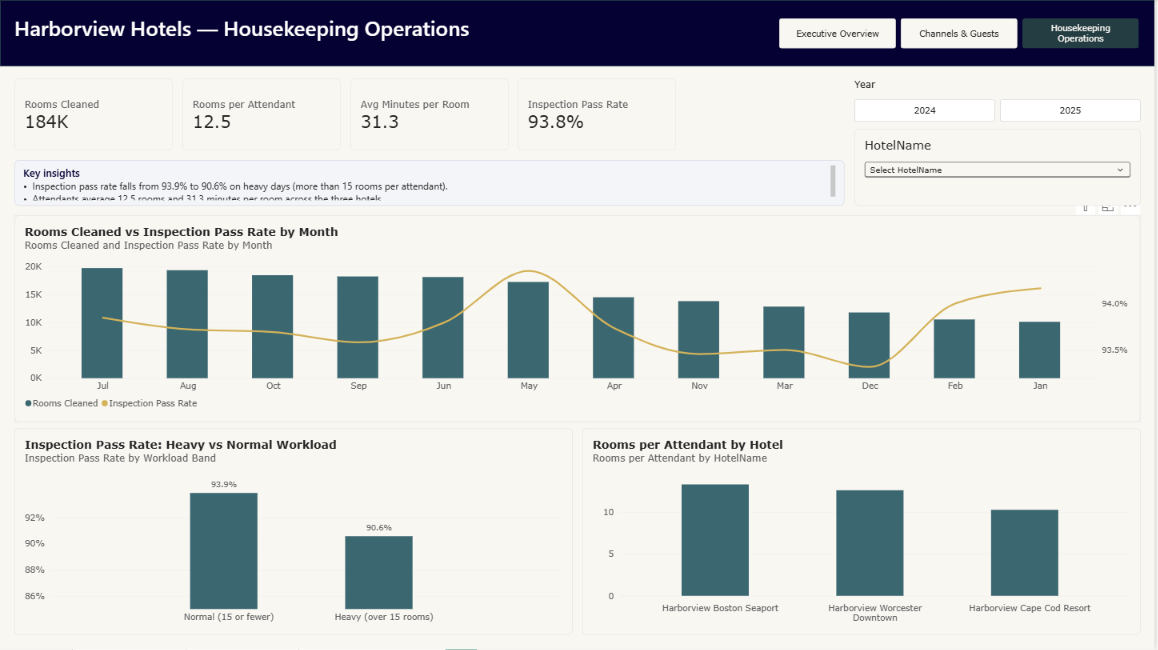

The dashboard page shown, as its layout file describes it:
{"tool":"powerbi","page":{"name":"Housekeeping Operations","canvas":[1920,1080],"ordinal":2},"visuals":[{"type":"cardVisual","fields":{"Data":["_Measure.Rooms Cleaned"]},"box":[24,130,263,120],"z":0},{"type":"cardVisual","fields":{"Data":["_Measure.Inspection Pass Rate"]},"box":[861,130,263,120],"z":1000},{"type":"cardVisual","fields":{"Data":["_Measure.Avg Minutes per Room"]},"box":[582,130,263,120],"z":2000},{"type":"cardVisual","fields":{"Data":["_Measure.Rooms per Attendant"]},"box":[303,130,263,120],"z":3000},{"type":"lineStackedColumnComboChart","title":"Rooms Cleaned vs Inspection Pass Rate by Month","fields":{"Category":["Date.Month"],"Y":["_Measure.Rooms Cleaned"],"Y2":["_Measure.Inspection Pass Rate"]},"box":[24,358,1872,344],"z":4000},{"type":"clusteredColumnChart","title":"Inspection Pass Rate: Heavy vs Normal Workload","fields":{"Category":["Housekeeping.Workload Band"],"Y":["_Measure.Inspection Pass Rate"]},"box":[24,712,928,344],"z":5000},{"type":"clusteredColumnChart","title":"Rooms per Attendant by Hotel","fields":{"Category":["Hotels.HotelName"],"Y":["_Measure.Rooms per Attendant"]},"box":[968,712,928,344],"z":6000},{"type":"listSlicer","fields":{"Values":["Hotels.HotelName"]},"box":[1420,214,476,128],"z":7000},{"type":"advancedSlicerVisual","fields":{"Values":["Date.Year"]},"box":[1420,130,476,72],"z":8000},{"type":"shape","box":[0,0,1920,110],"z":8001},{"type":"textbox","box":[24,266,1380,76],"z":8500},{"type":"textbox","box":[24,22,1240,70],"z":9000},{"type":"pageNavigator","box":[1296,30,600,50],"z":9500}]}

Visuals, with their boxes in screenshot pixels (x1, y1, x2, y2), scaled from the page's 1920x1080 canvas onto the 1158x650 screenshot:
cardVisual - _Measure.Rooms Cleaned: bbox=[14, 78, 173, 150]
cardVisual - _Measure.Inspection Pass Rate: bbox=[519, 78, 678, 150]
cardVisual - _Measure.Avg Minutes per Room: bbox=[351, 78, 510, 150]
cardVisual - _Measure.Rooms per Attendant: bbox=[183, 78, 341, 150]
"Rooms Cleaned vs Inspection Pass Rate by Month" lineStackedColumnComboChart: bbox=[14, 215, 1144, 422]
"Inspection Pass Rate: Heavy vs Normal Workload" clusteredColumnChart: bbox=[14, 429, 574, 636]
"Rooms per Attendant by Hotel" clusteredColumnChart: bbox=[584, 429, 1144, 636]
listSlicer - Hotels.HotelName: bbox=[856, 129, 1144, 206]
advancedSlicerVisual - Date.Year: bbox=[856, 78, 1144, 122]
shape: bbox=[0, 0, 1157, 66]
textbox: bbox=[14, 160, 847, 206]
textbox: bbox=[14, 13, 762, 55]
pageNavigator: bbox=[782, 18, 1144, 48]
